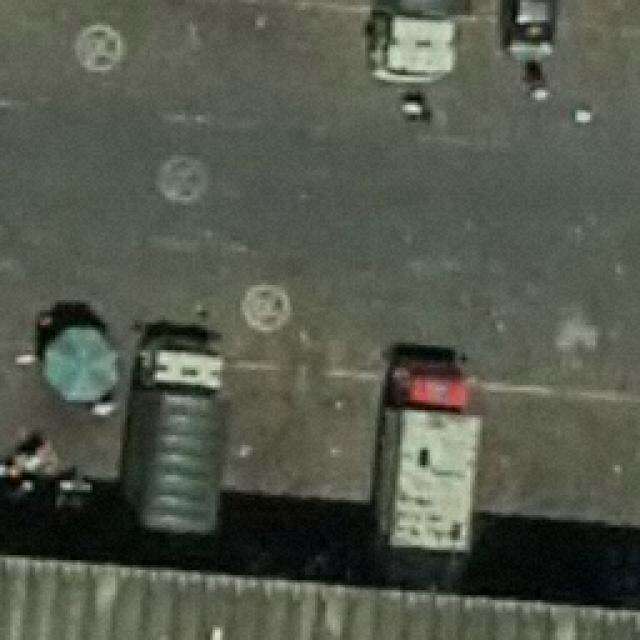vendedor_ambulante: (37, 320, 123, 404)
